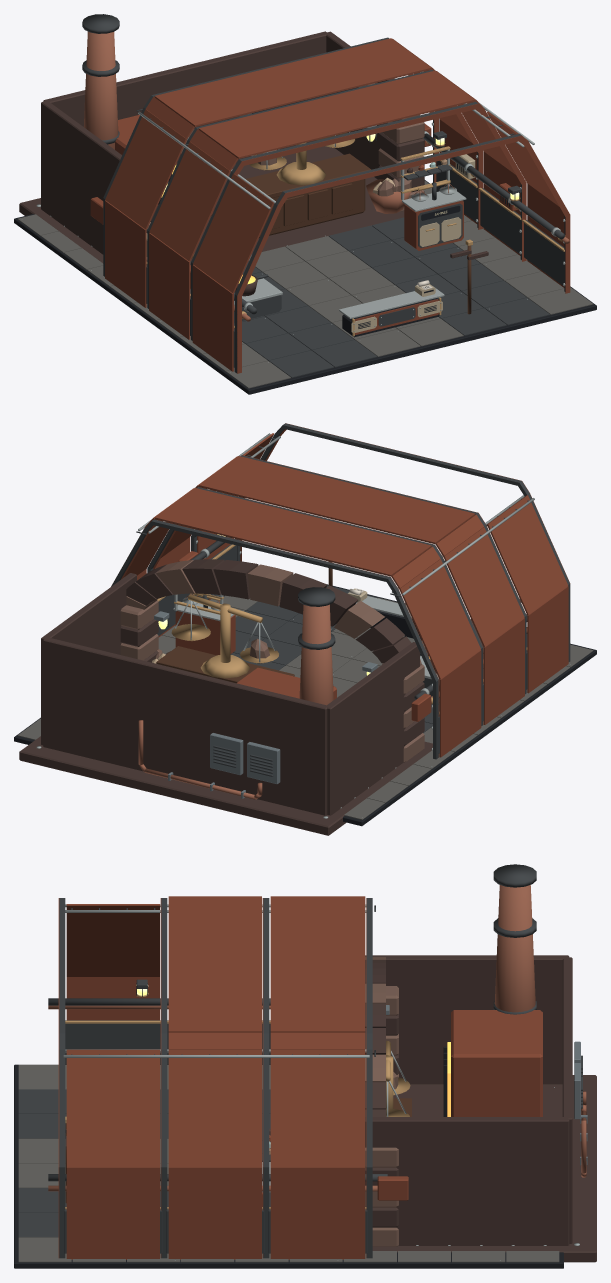
File: scorchmaw-assay.glb
The picture shows the model from 3 angles, top to bottom: view 1: azimuth 30°, elevation 25°; view 2: azimuth 150°, elevation 25°; view 3: azimuth 270°, elevation 25°; orthographic projection. The views are drawn at different scales.
Parts seen in each view (by area): view 1: scorchmaw-assay; view 2: scorchmaw-assay; view 3: scorchmaw-assay.
Boxes of the visible parts, x1,y1,x2,y2 form: scorchmaw-assay: (14, 14, 596, 394); scorchmaw-assay: (14, 423, 596, 835); scorchmaw-assay: (14, 864, 596, 1268).
Bounding box in the file's own units: 17.08 × 9.58 × 21.14.
21 materials, 17 textured.
